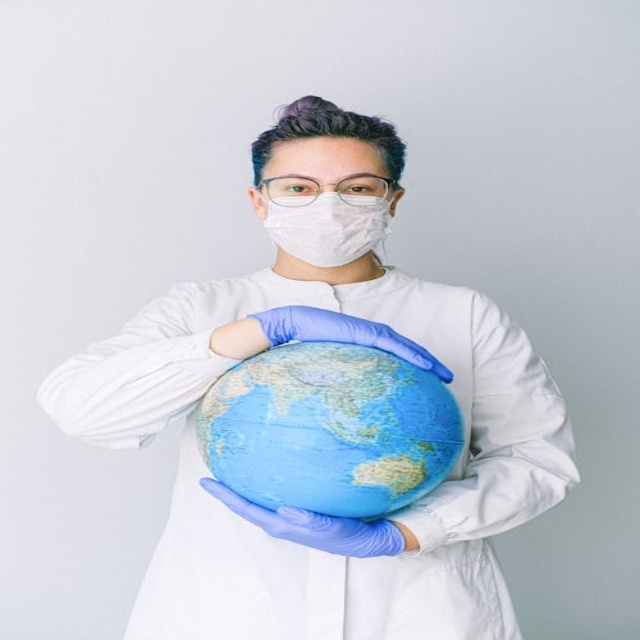Gafas: (259, 175, 399, 208)
Guantes: (199, 478, 403, 560), (246, 305, 454, 381)
Mascara: (261, 190, 393, 267)
